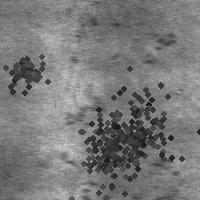rolled-in_scale: (61, 100, 180, 199), (51, 100, 165, 200), (83, 65, 185, 167), (86, 85, 186, 185), (72, 14, 177, 65), (72, 106, 144, 178), (0, 47, 45, 93)
